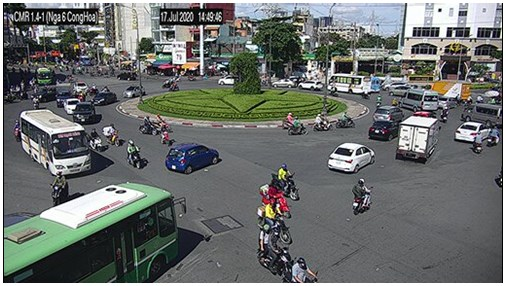xe_buyt: (3, 182, 181, 283), (18, 110, 90, 178), (328, 75, 371, 95)
xe_hoi: (165, 144, 220, 176), (328, 142, 375, 173), (455, 121, 486, 144), (368, 121, 396, 142), (72, 101, 95, 123), (373, 106, 403, 121), (92, 92, 117, 107), (63, 98, 81, 116), (298, 80, 323, 91), (272, 77, 297, 88), (123, 86, 147, 97), (389, 86, 413, 96), (384, 81, 408, 91), (217, 75, 240, 84), (116, 71, 138, 80), (72, 82, 88, 93)
xe_khach: (461, 103, 502, 125), (402, 89, 439, 111)
xe_may: (258, 225, 293, 278), (256, 197, 291, 244), (258, 181, 290, 219), (270, 163, 300, 201), (283, 258, 322, 283), (354, 178, 372, 215), (50, 171, 68, 205), (127, 138, 142, 170), (138, 116, 159, 137), (103, 123, 119, 148), (288, 116, 308, 136), (312, 113, 332, 133), (336, 111, 355, 130), (89, 129, 103, 153), (152, 115, 170, 133), (282, 113, 300, 130), (487, 126, 500, 149), (473, 131, 482, 155), (159, 126, 170, 145), (13, 119, 21, 143), (440, 106, 450, 125), (161, 78, 172, 89), (31, 95, 40, 108), (329, 84, 338, 97), (374, 94, 381, 109), (169, 83, 180, 92), (32, 83, 39, 96)
xe_tai: (396, 115, 438, 165)
